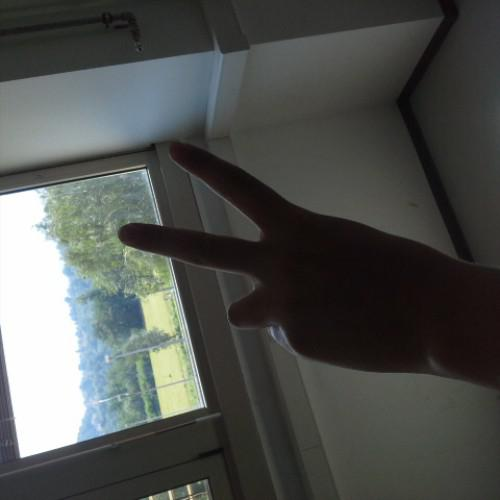scissors: (112, 136, 434, 378)
